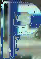Parking: (2, 0, 39, 57)
